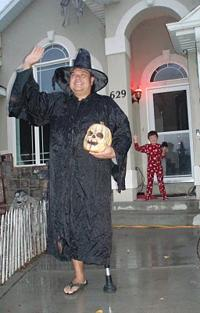person: (21, 43, 130, 298)
